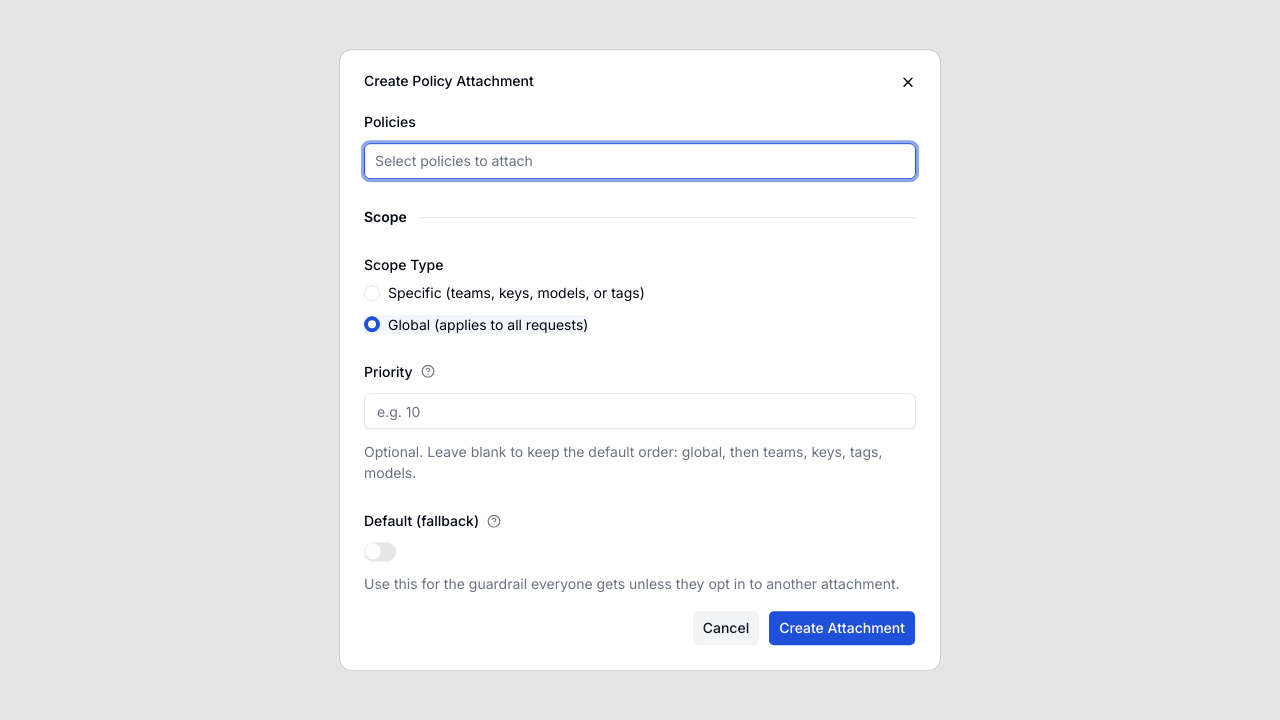
Test: AddAttachmentForm › does not flag a team that exists
Expected: the heading "Create Policy Attachment" is shown, [364,72,534,89]
Click the radio button next to "Specific (teams, keys, models, or tags)". click: coordinates (372, 293)
box: [364,285,380,301]
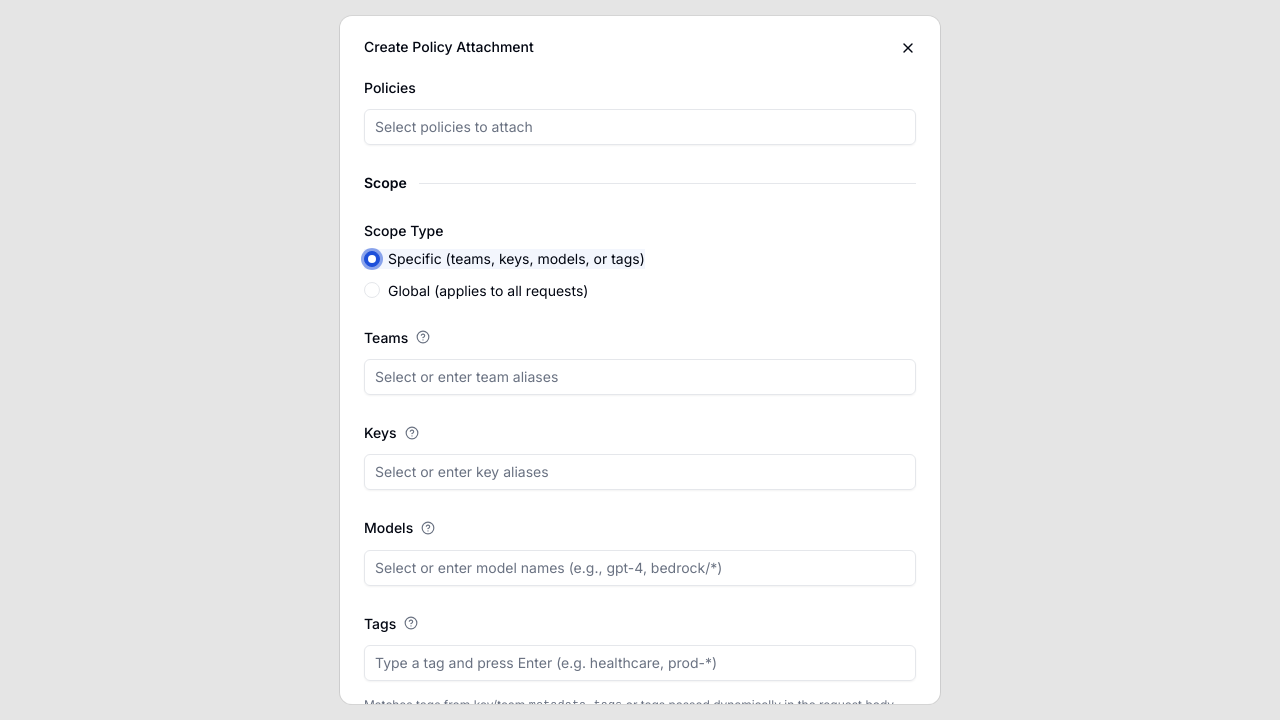
Type "real-team" into the dropdown labelled "Teams". click: coordinates (640, 377)
box: [375,367,905,387]
Then press Enter
(page scrolled)
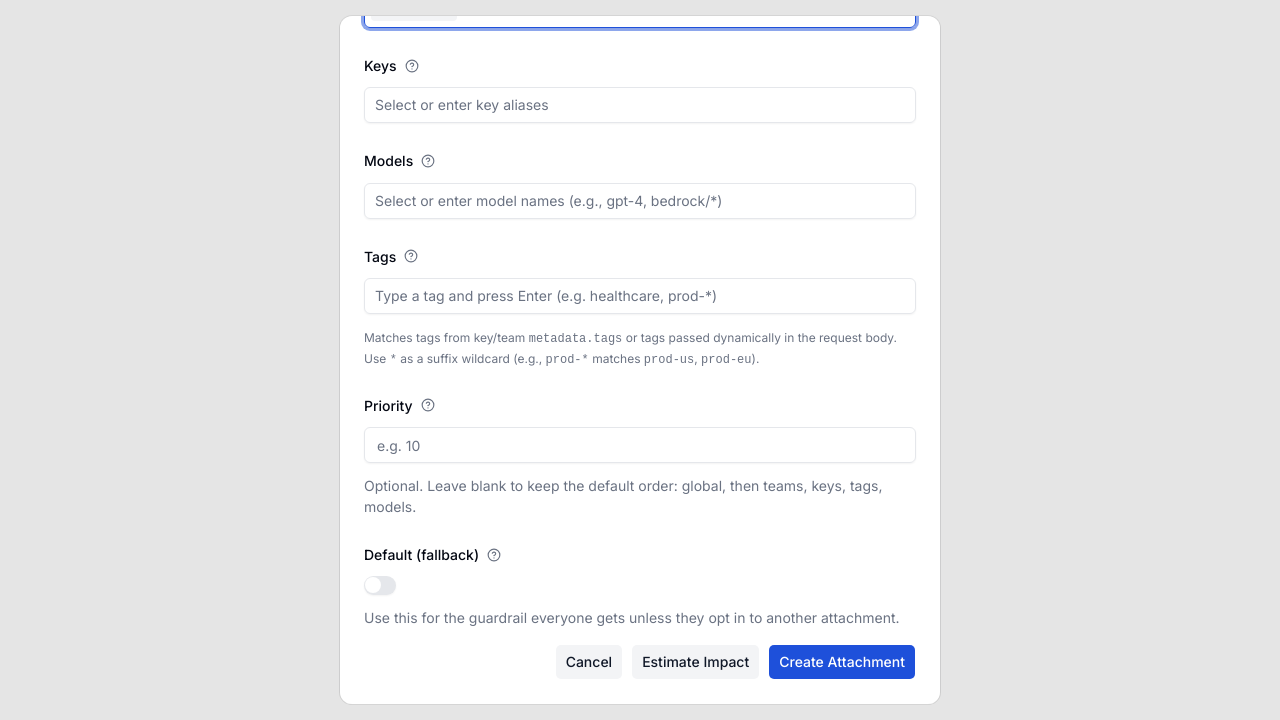
Click the button "Create Attachment". click: coordinates (842, 662)
box: [768,644,916,680]
(page scrolled)
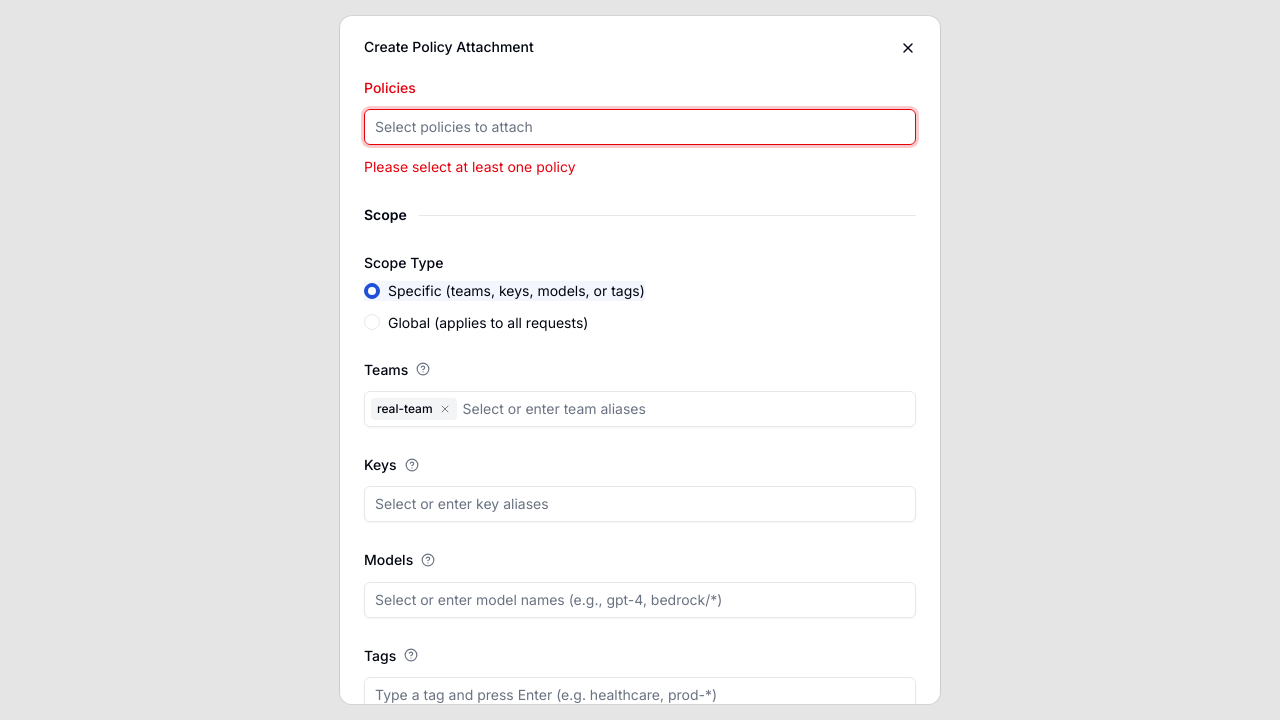
Now the text "Please select at least one policy" is shown, box [364,158,576,175]
